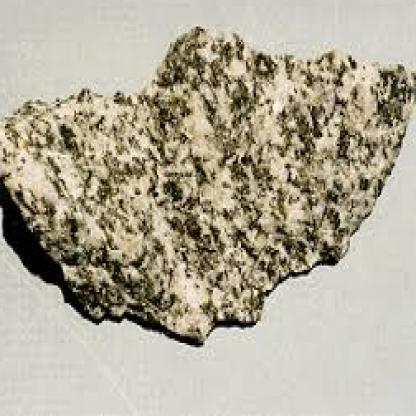Igneous_Diorite: (0, 11, 415, 353)
